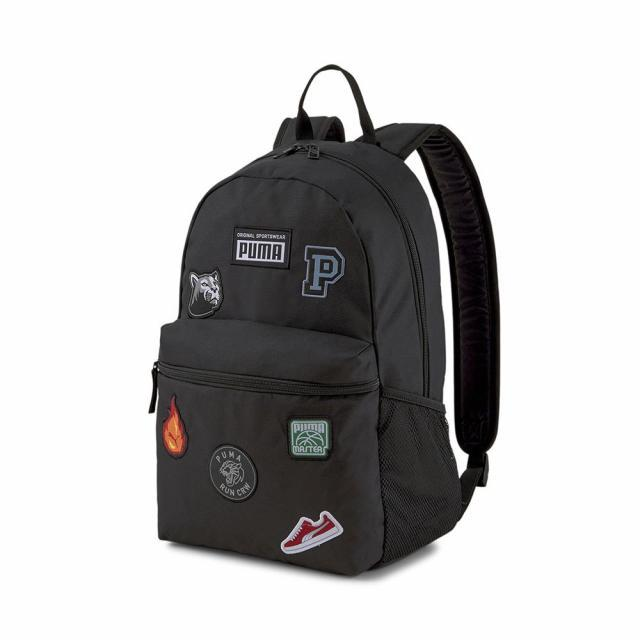Backpacks: (148, 132, 464, 584)
